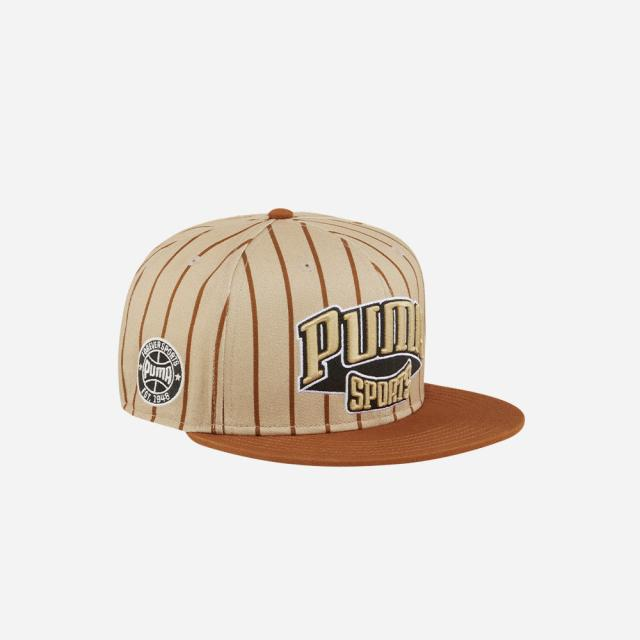Nonhelmet: (102, 192, 526, 474)
